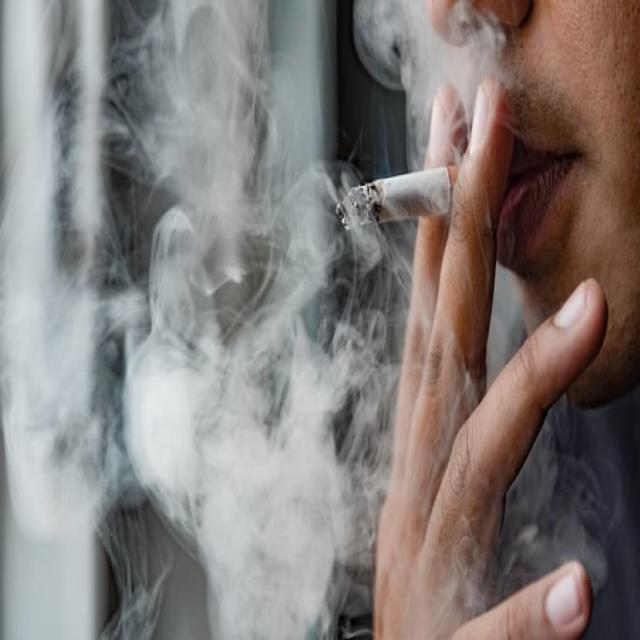smoking: (283, 51, 515, 302)
